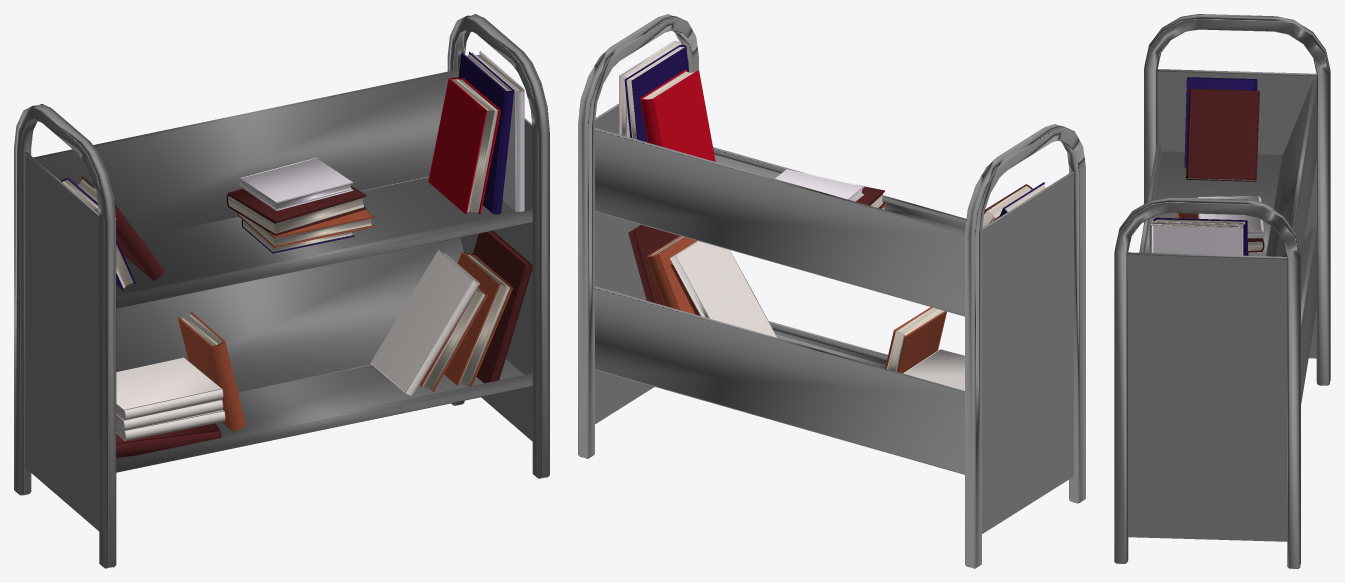
The model's file is CaritoBiblioteca.fbx.
The picture shows the model from 3 angles, left to right: view 1: azimuth 30°, elevation 25°; view 2: azimuth 150°, elevation 25°; view 3: azimuth 270°, elevation 25°; orthographic projection. The views are drawn at different scales.
Visible parts, largest first — view 1: CarritoLibros; view 2: CarritoLibros; view 3: CarritoLibros.
Boxes of the visible parts, <box> form: CarritoLibros: <box>14,14,549,568</box>; CarritoLibros: <box>578,14,1085,568</box>; CarritoLibros: <box>1114,14,1330,568</box>.
Size of the model in its own units: 414 by 363 by 195.
